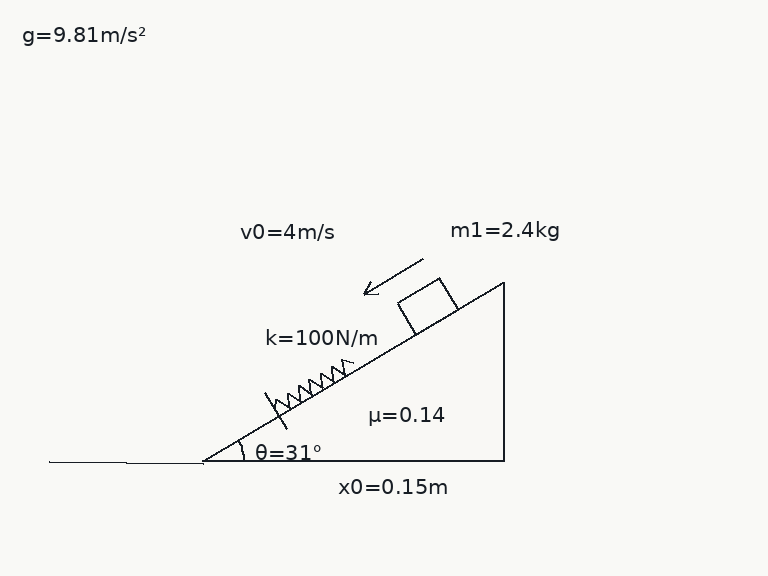block: (395, 276, 459, 336)
ramp: (202, 279, 505, 463)
spring: (272, 357, 354, 410)
